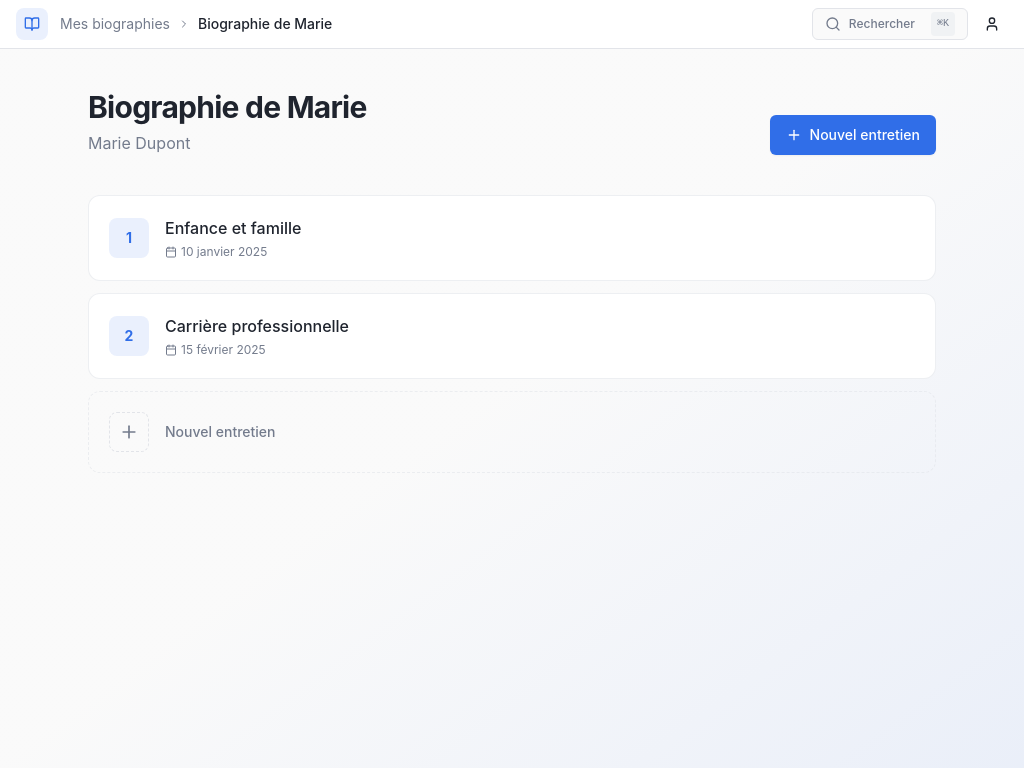
ProjectInterviews › opens create interview dialog
This screenshot has width=1024, height=768.
# Click the first one (the header button)
Click the button "Nouvel entretien". click: (853, 135)
box: [770,115,936,155]
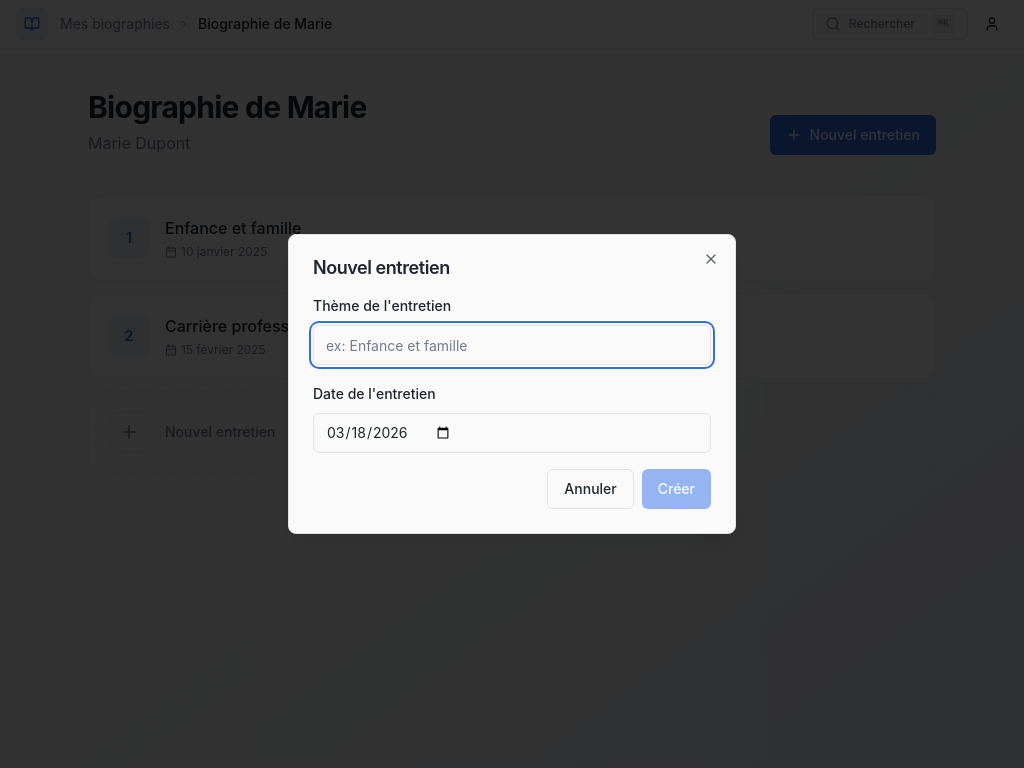
Result: the text "Thème de l'entretien" is shown at [313,297,451,314]
Result: the text "Date de l'entretien" is shown at [313,385,436,402]
